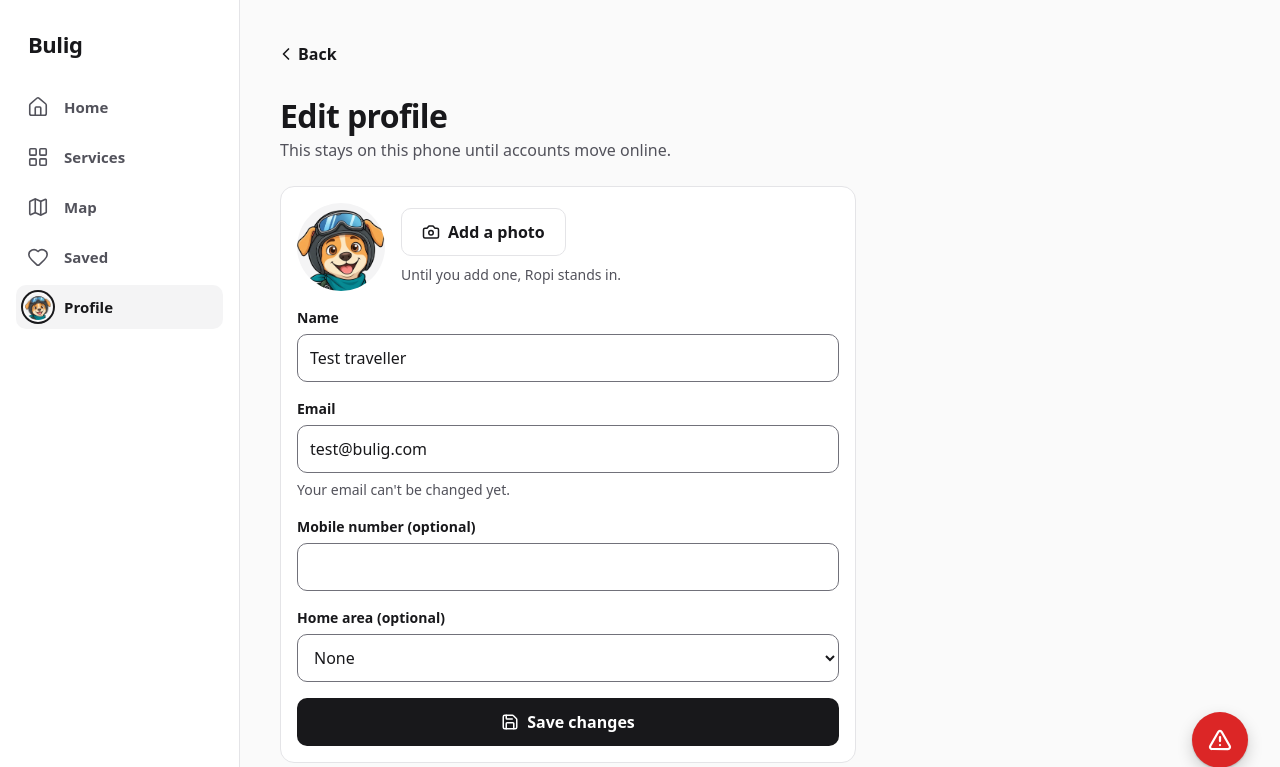
Test: Profile › saves edited details on this phone
This screenshot has width=1280, height=767.
Replace the text in the field labelled "Name" with "Juan Dela Cruz" at x=568, y=358, box [297,334,839,382]
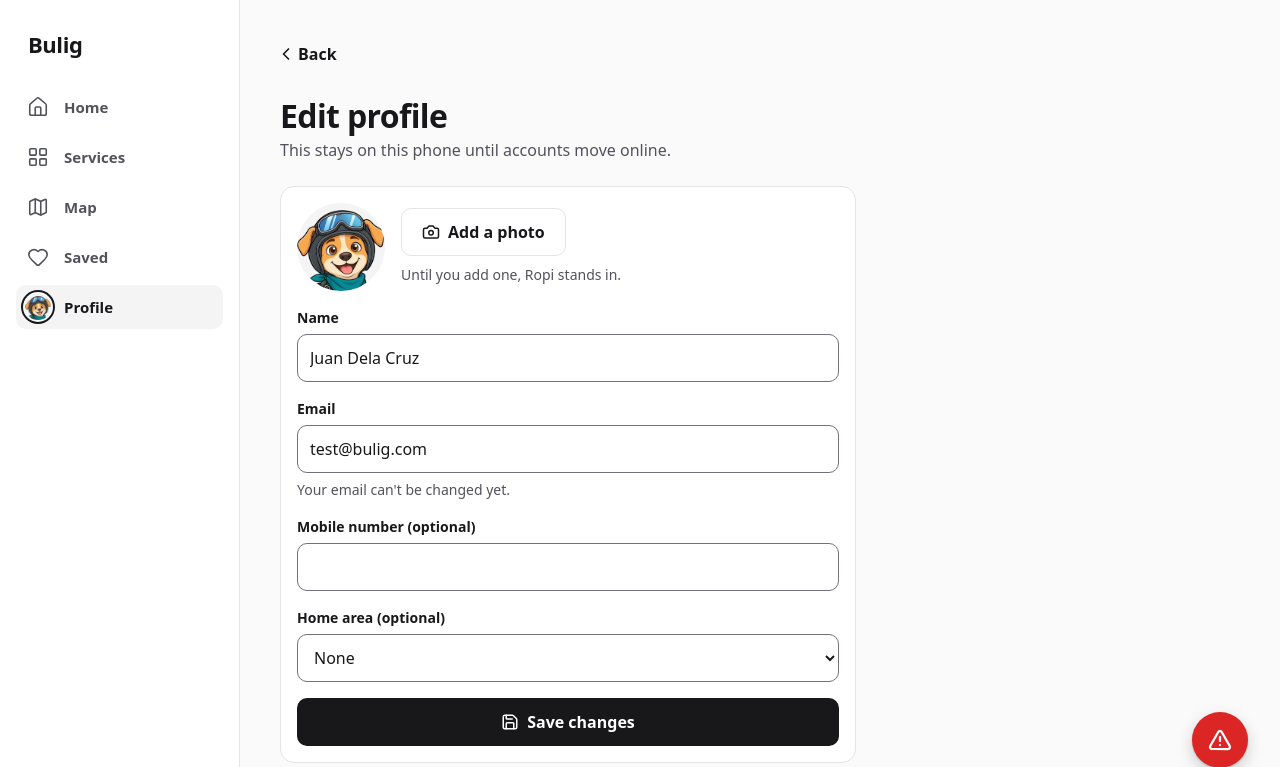
Type "0917 123 4567" into the field labelled "Mobile number (optional)" at x=568, y=567, box [297,543,839,591]
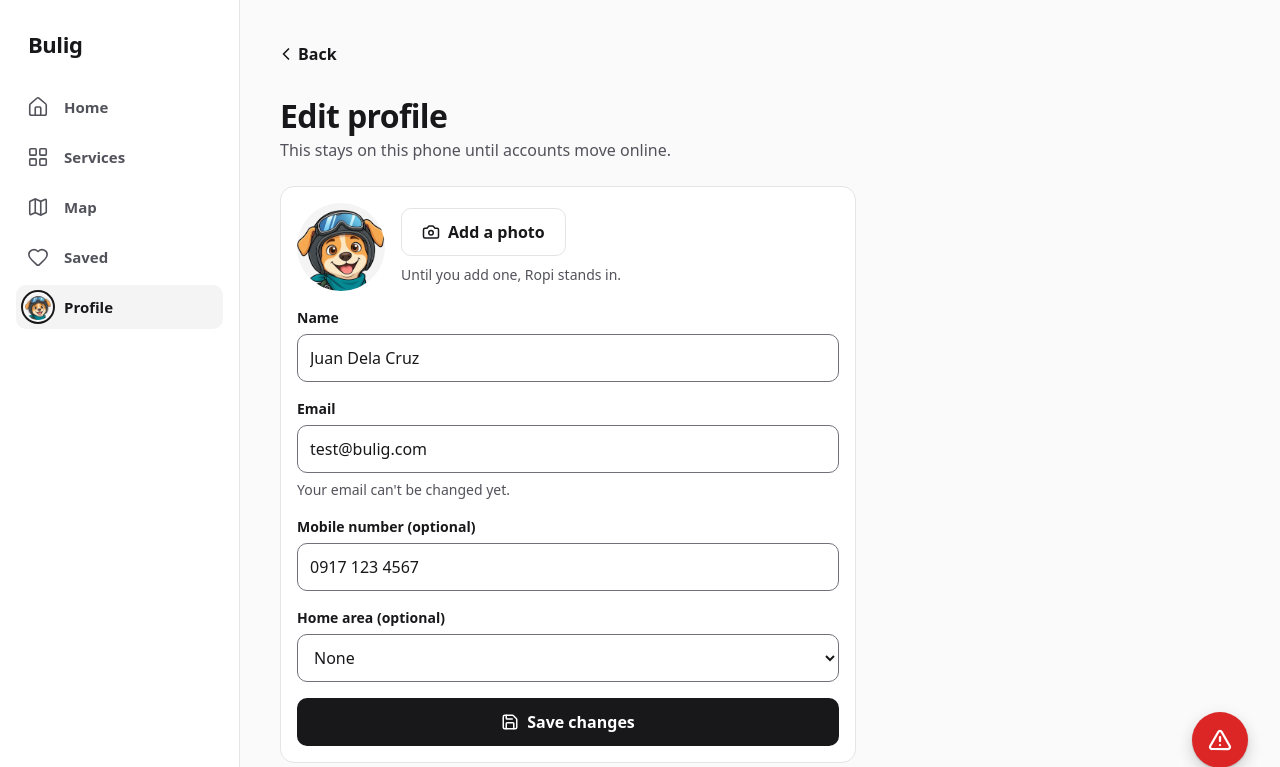
Click the button "Save changes" at x=568, y=722, box [297,698,839,746]
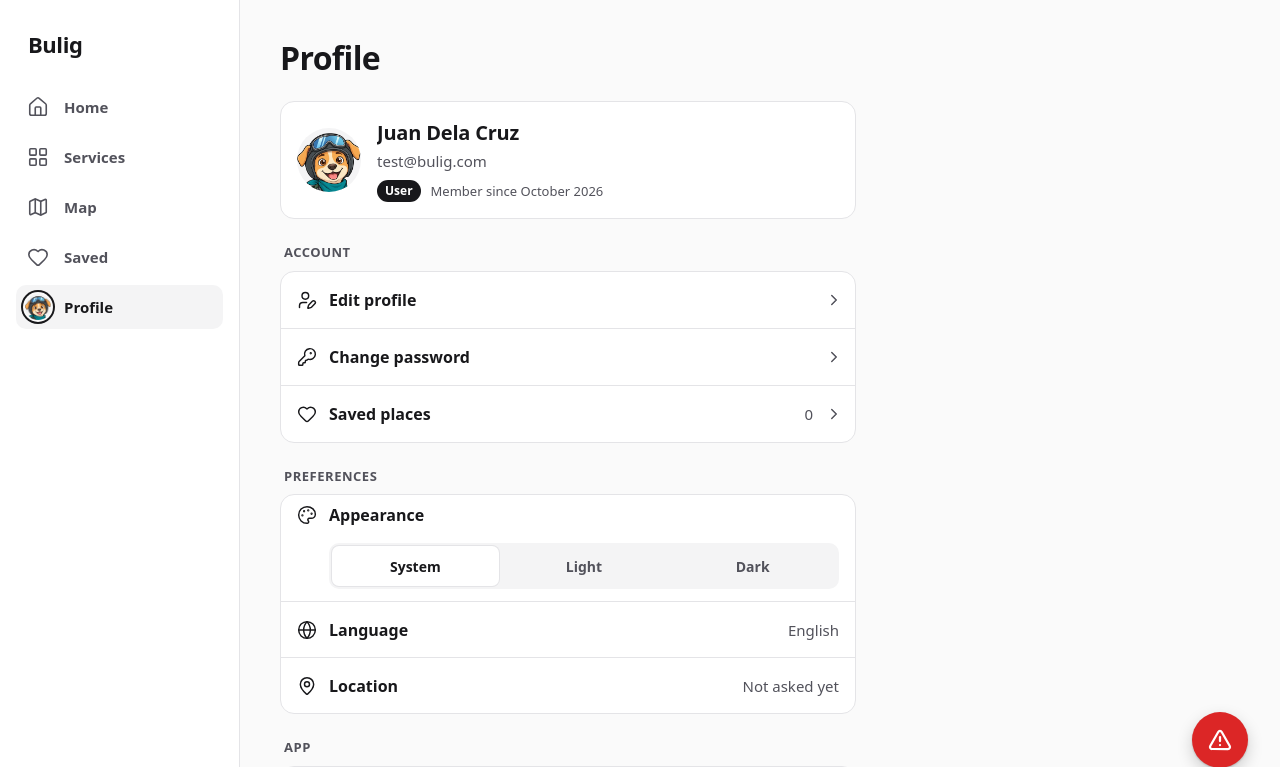
Result: the heading "Juan Dela Cruz" is shown at [377,119,519,146]
